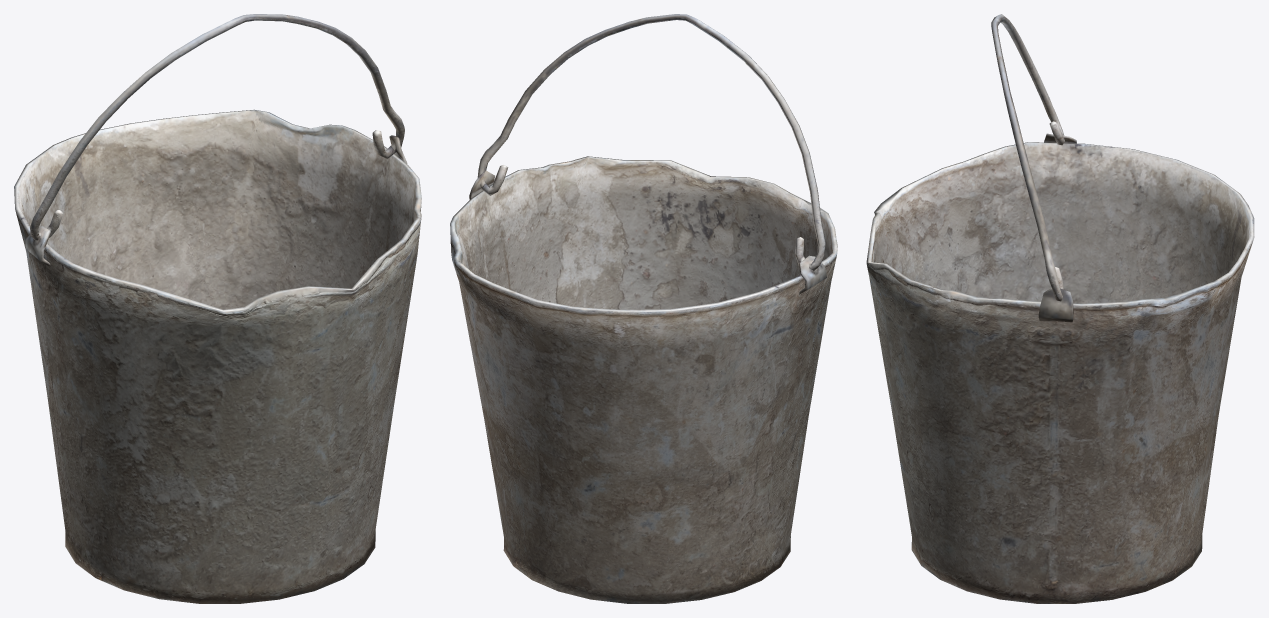
Rendered from bucket_lowpoly.glb.
The picture shows the model from 3 angles, left to right: view 1: azimuth 30°, elevation 25°; view 2: azimuth 150°, elevation 25°; view 3: azimuth 270°, elevation 25°; orthographic projection. The views are drawn at different scales.
Visible parts, largest first — view 1: bucket_01_lp; view 2: bucket_01_lp; view 3: bucket_01_lp.
Boxes of the visible parts, left/top/right/bottom form: bucket_01_lp: left=14, top=14, right=421, bottom=603; bucket_01_lp: left=450, top=14, right=837, bottom=603; bucket_01_lp: left=866, top=14, right=1254, bottom=603.
Bounding box in the file's own units: 0.3268 × 0.4581 × 0.3128.
Materials: 1 (1 with a texture image).
